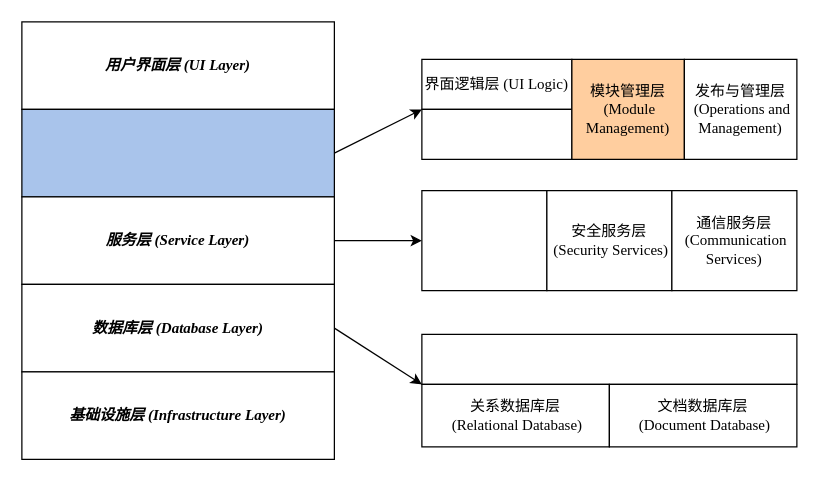
The diagram is 819 pixels wide and 481 high, and some of its shapes have lost their labels. The box of each missing label's shape, as (x1, y1, x2, y2) in pixels:
业务逻辑层 (Business Logic): (421, 108, 572, 159)
应用层 (Application Layer): (21, 108, 334, 197)
数据服务层 (Data Services): (421, 189, 547, 291)
缓存层 (Cache Layer): (421, 333, 797, 384)
